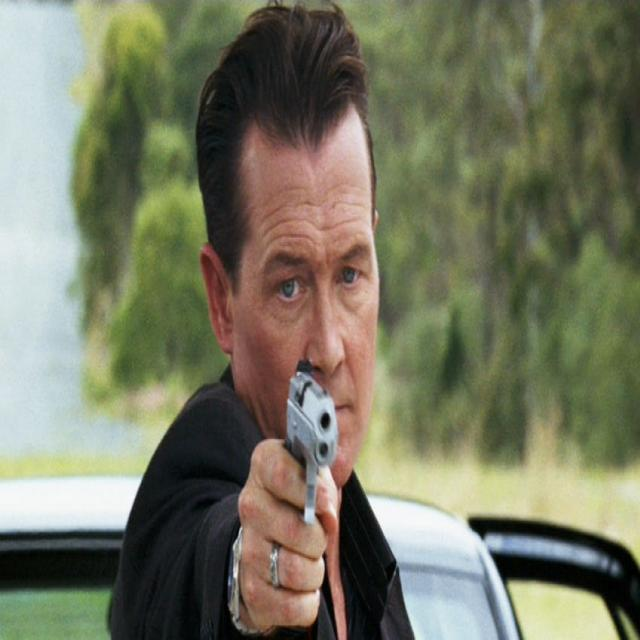gun-knife-thesis - v11 Yolov5 augmented: (240, 363, 337, 634)
